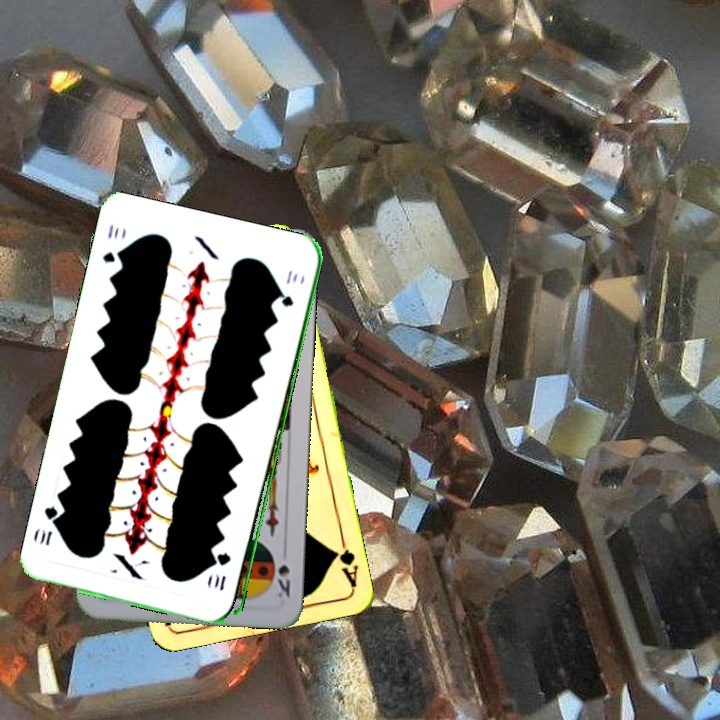G10: (99, 220, 126, 265), (215, 548, 234, 593)
GA: (329, 530, 361, 589)
SK: (273, 543, 293, 600)
